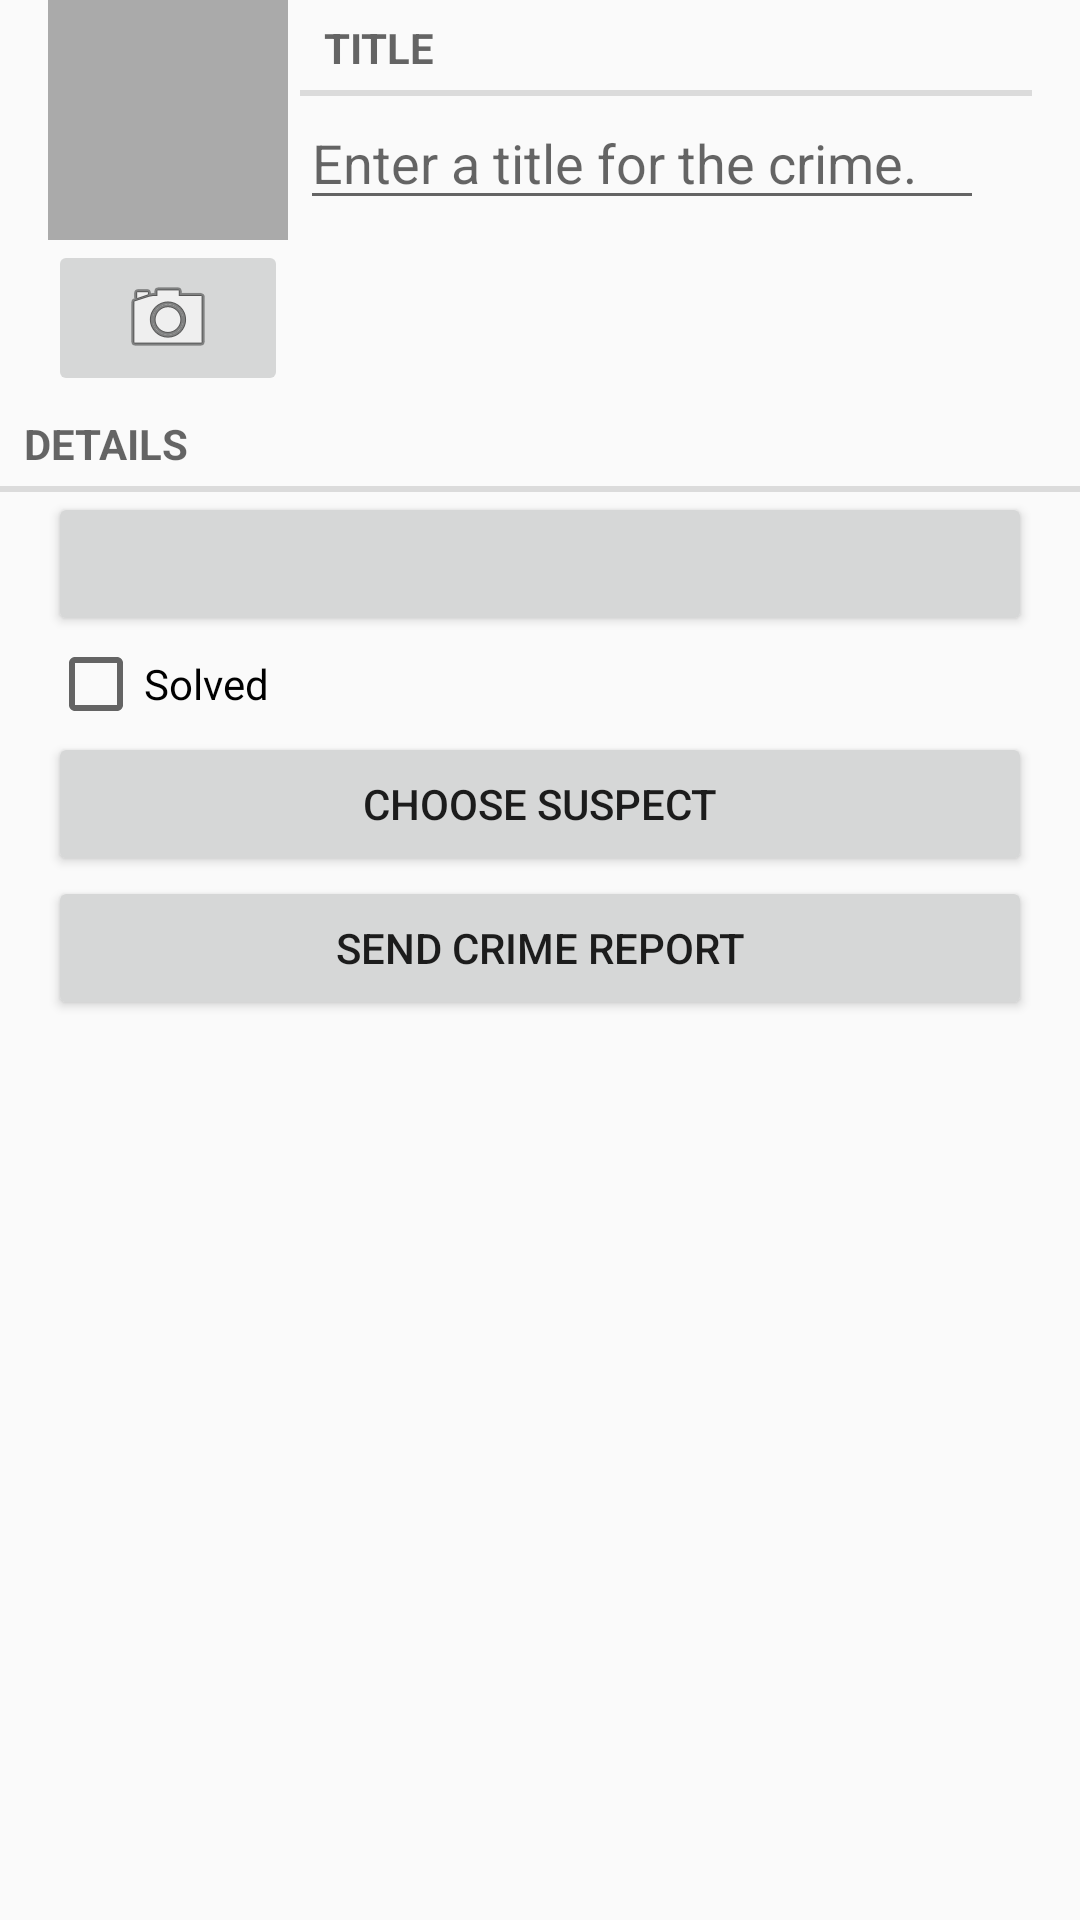

Named icons in this screenshot (1080*1920) and their centers, [x,y]:
camera: [168,318]
